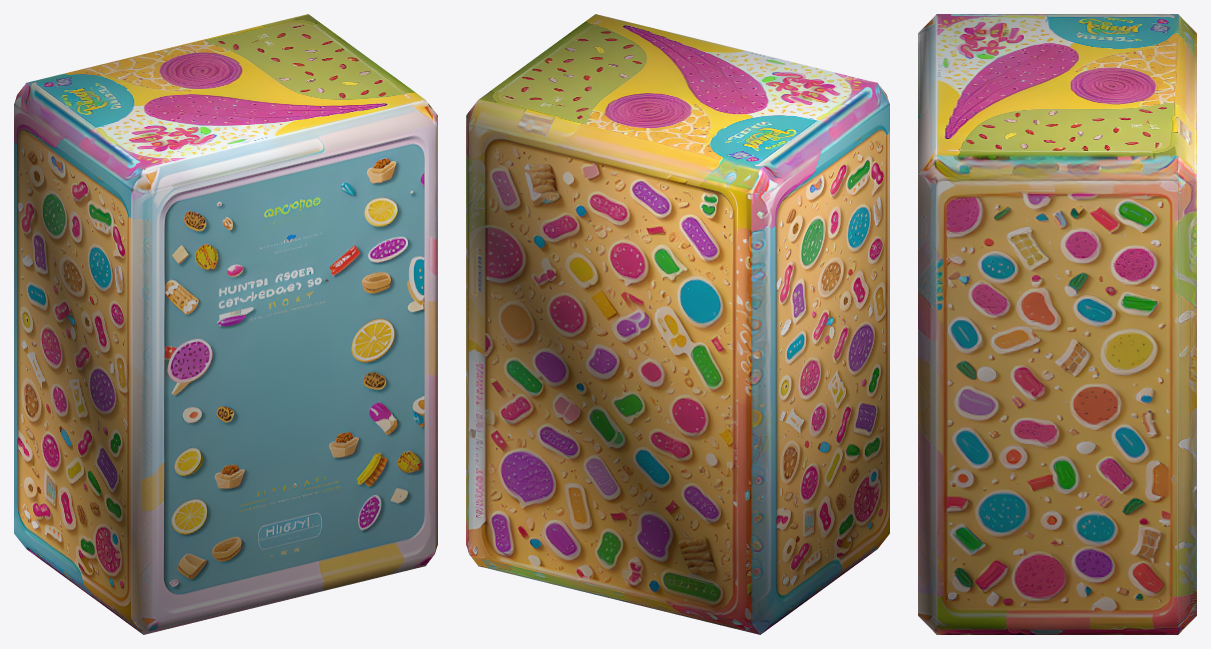
The model's file is cerealBox.glb.
3 renders of one model, left to right at view 1: azimuth 30°, elevation 25°; view 2: azimuth 150°, elevation 25°; view 3: azimuth 270°, elevation 25°, orthographic. The views are drawn at different scales.
Bounding box in the file's own units: 2.32 × 3.38 × 1.78.
1 material, 1 textured.
